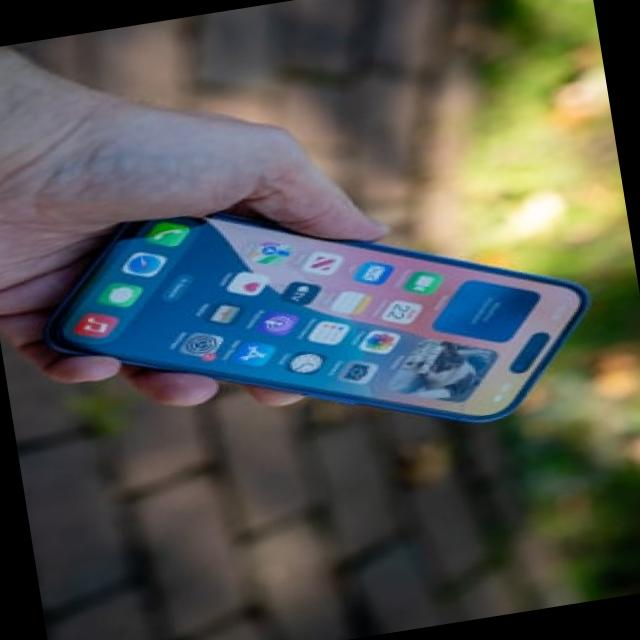mobile_phone: (16, 167, 626, 458)
